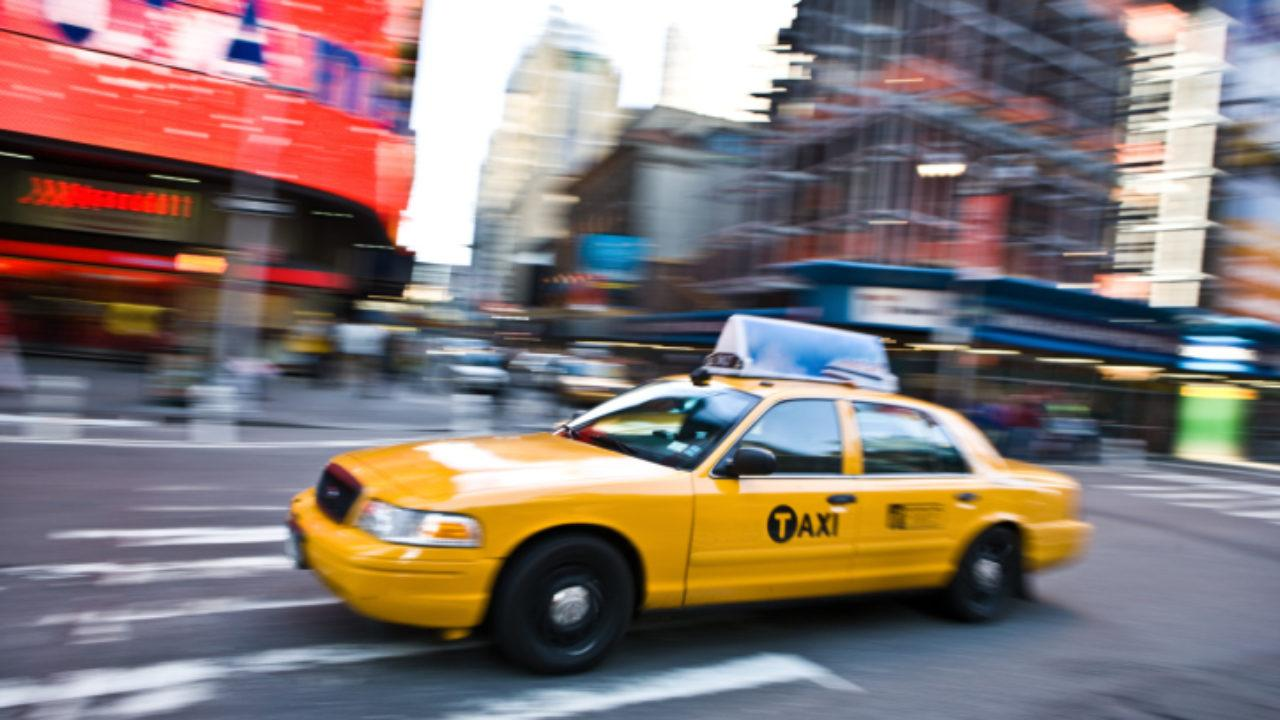taxi: (267, 305, 1103, 653)
